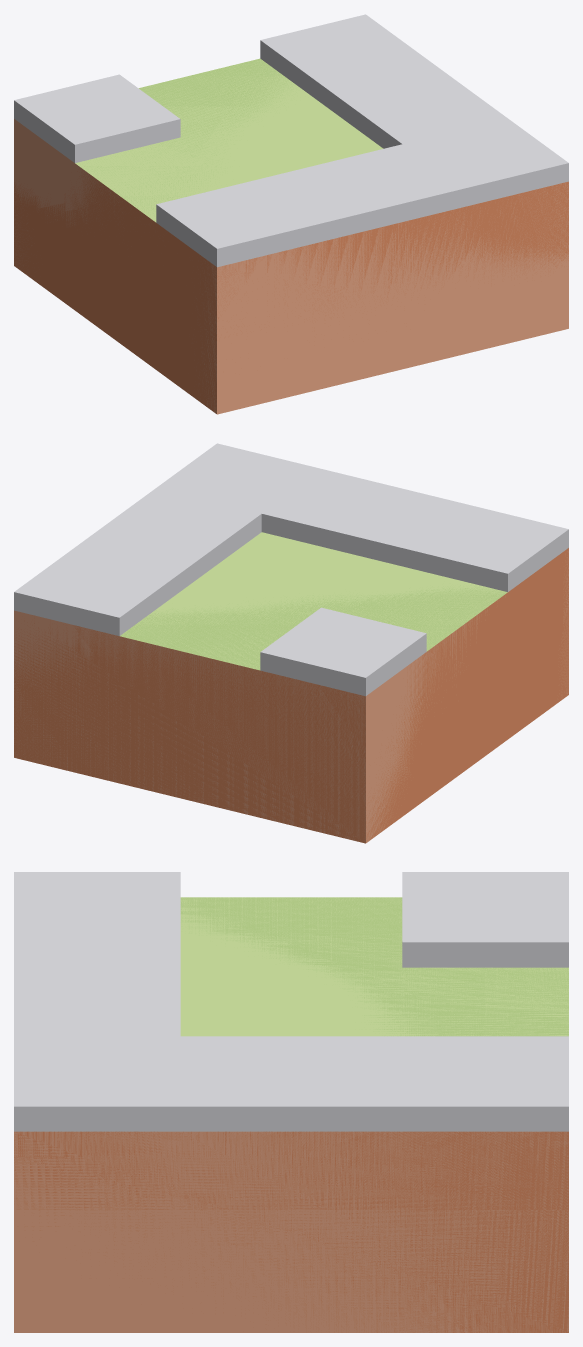
File: Planes.fbx
3 views of the same model, one above another, from view 1: azimuth 30°, elevation 25°; view 2: azimuth 150°, elevation 25°; view 3: azimuth 270°, elevation 25° (orthographic). The views are drawn at different scales.
Visible parts, largest first — view 1: SideWalk V2, GrassGround_3, SideWalk V3, SideWalk V1; view 2: GrassGround_3, SideWalk V3, SideWalk V1, SideWalk V2; view 3: SideWalk V3, SideWalk V2, GrassGround_3, SideWalk V1.
Boxes of the visible parts, box(x1,y1,x2,y2) form: SideWalk V2: box(14, 63, 568, 414); GrassGround_3: box(14, 58, 568, 413); SideWalk V3: box(14, 15, 566, 413); SideWalk V1: box(85, 14, 568, 355); GrassGround_3: box(14, 548, 568, 843); SideWalk V3: box(15, 444, 568, 838); SideWalk V1: box(14, 443, 506, 843); SideWalk V2: box(14, 532, 505, 842); SideWalk V3: box(14, 872, 568, 1332); SideWalk V2: box(14, 872, 568, 1332); GrassGround_3: box(14, 897, 568, 1332); SideWalk V1: box(14, 897, 568, 1131).
Bounding box in the file's own units: 1000 × 450 × 1000.
